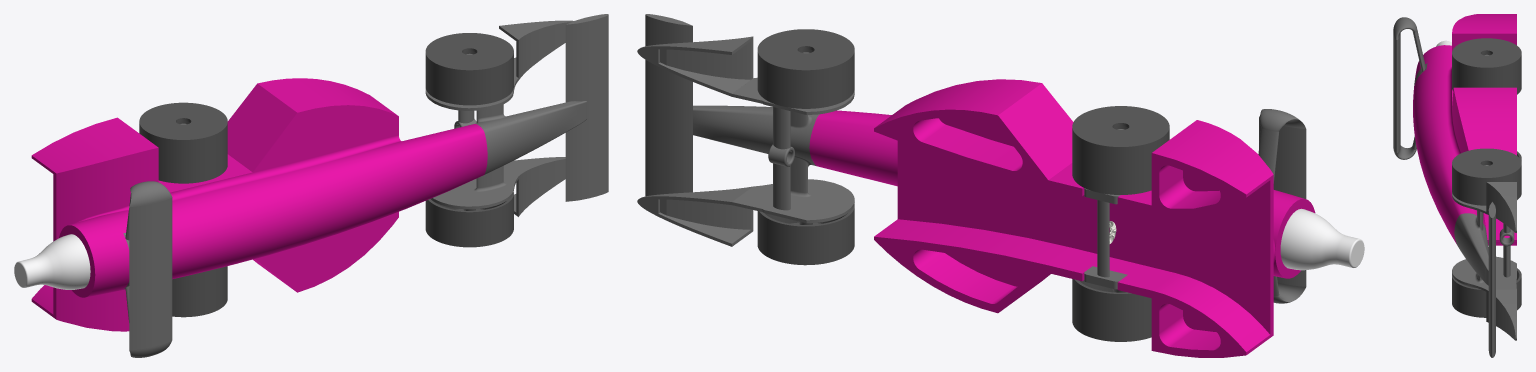
File: 4 - Vega Pro Nationals.fbx
3 views of the same model, side by side, from view 1: azimuth 30°, elevation 25°; view 2: azimuth 150°, elevation 25°; view 3: azimuth 270°, elevation 25° (orthographic). The views are drawn at different scales.
Visible parts, largest first — view 1: Body1 (×7), Body3; view 2: Body1 (×8), Body3, Body5; view 3: Body1 (×6), Body3.
Boxes of the visible parts, bbox=[...] form: Body1 (×7): bbox=[14, 33, 513, 357]; Body3: bbox=[425, 14, 608, 216]; Body1 (×8): bbox=[757, 29, 1364, 357]; Body3: bbox=[637, 14, 854, 246]; Body5: bbox=[1084, 129, 1127, 292]; Body1 (×6): bbox=[1393, 14, 1521, 317]; Body3: bbox=[1452, 165, 1516, 357].
Bounding box in the file's own units: 230 × 64 × 52.5.
